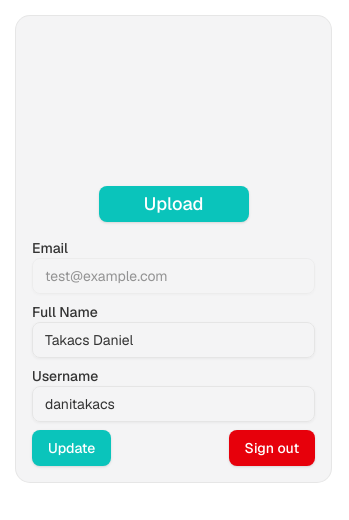
UpdateProfileForm › should show error if username is already taken
The image size is (349, 520).
Replace the text in the field labelled "Username" with "taken-name": (174, 404) [32,386,315,422]
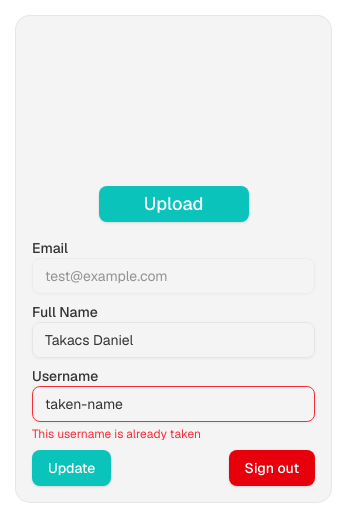
Result: the text "This username is already taken" is shown at [32,426,201,442]
